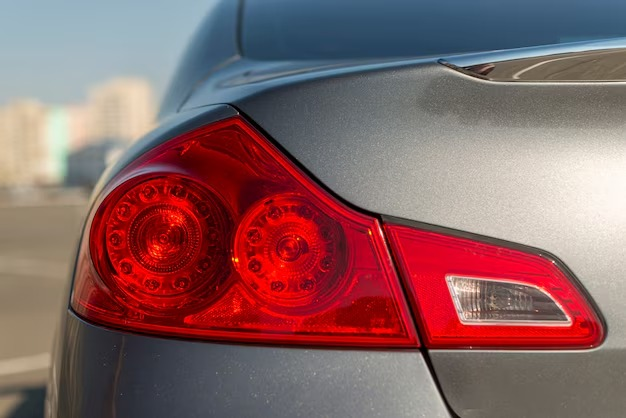car: (25, 1, 620, 407), (29, 14, 620, 413)
